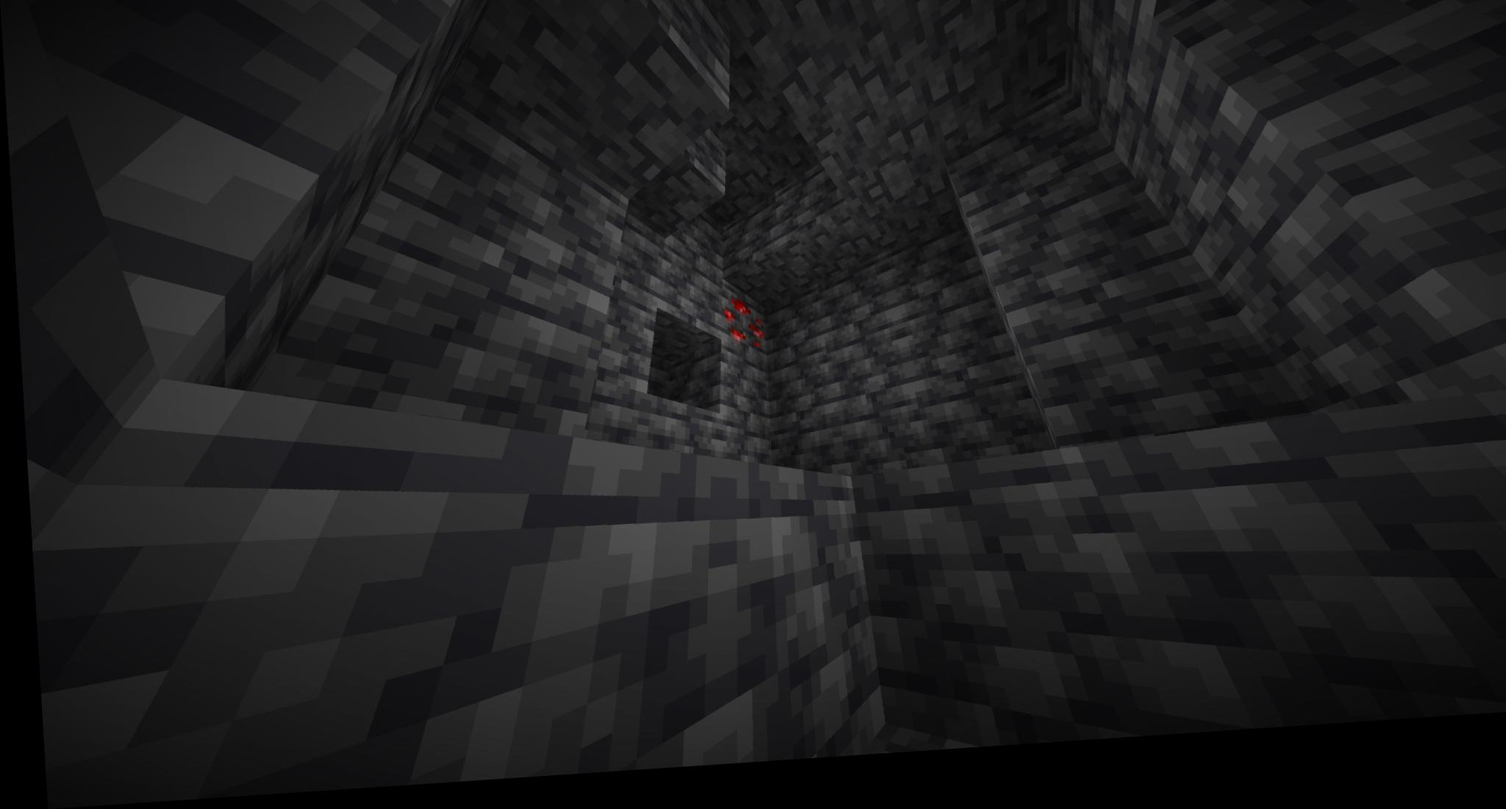redstone ore: (710, 299, 766, 362)
